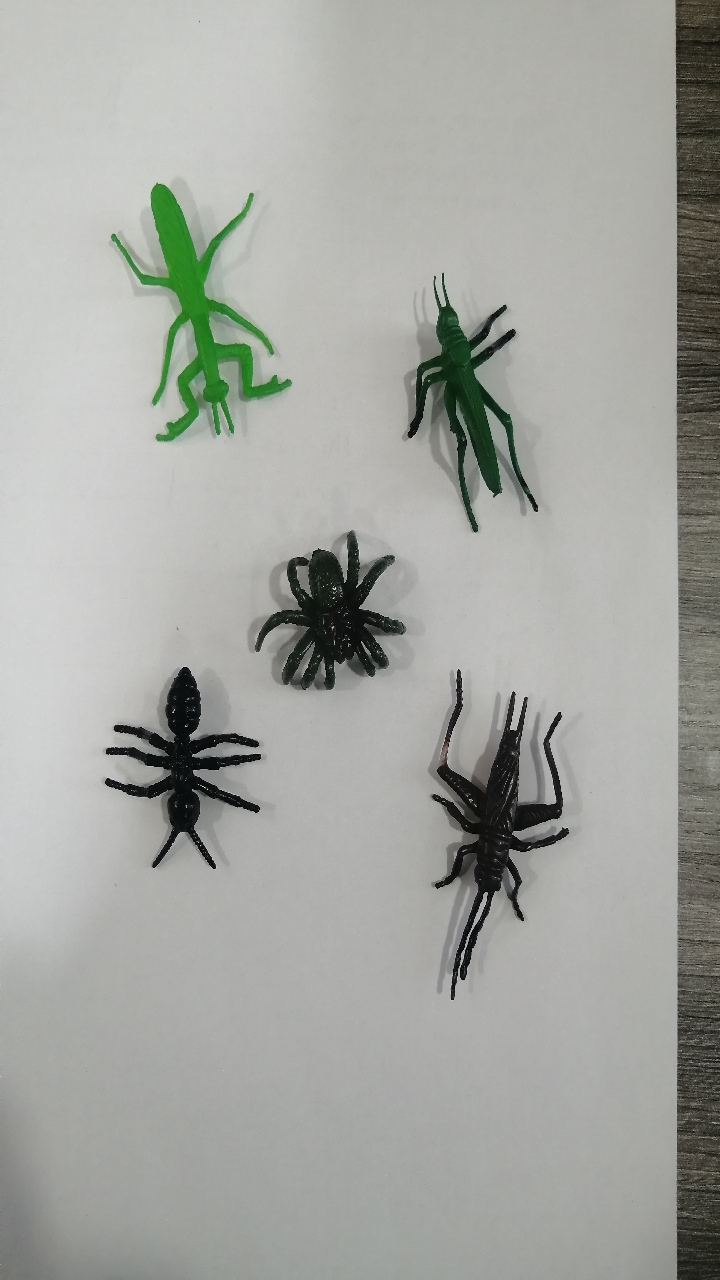intruso: (383, 652, 598, 1034), (74, 139, 306, 472), (369, 232, 563, 551), (88, 649, 275, 900), (234, 520, 421, 723)
